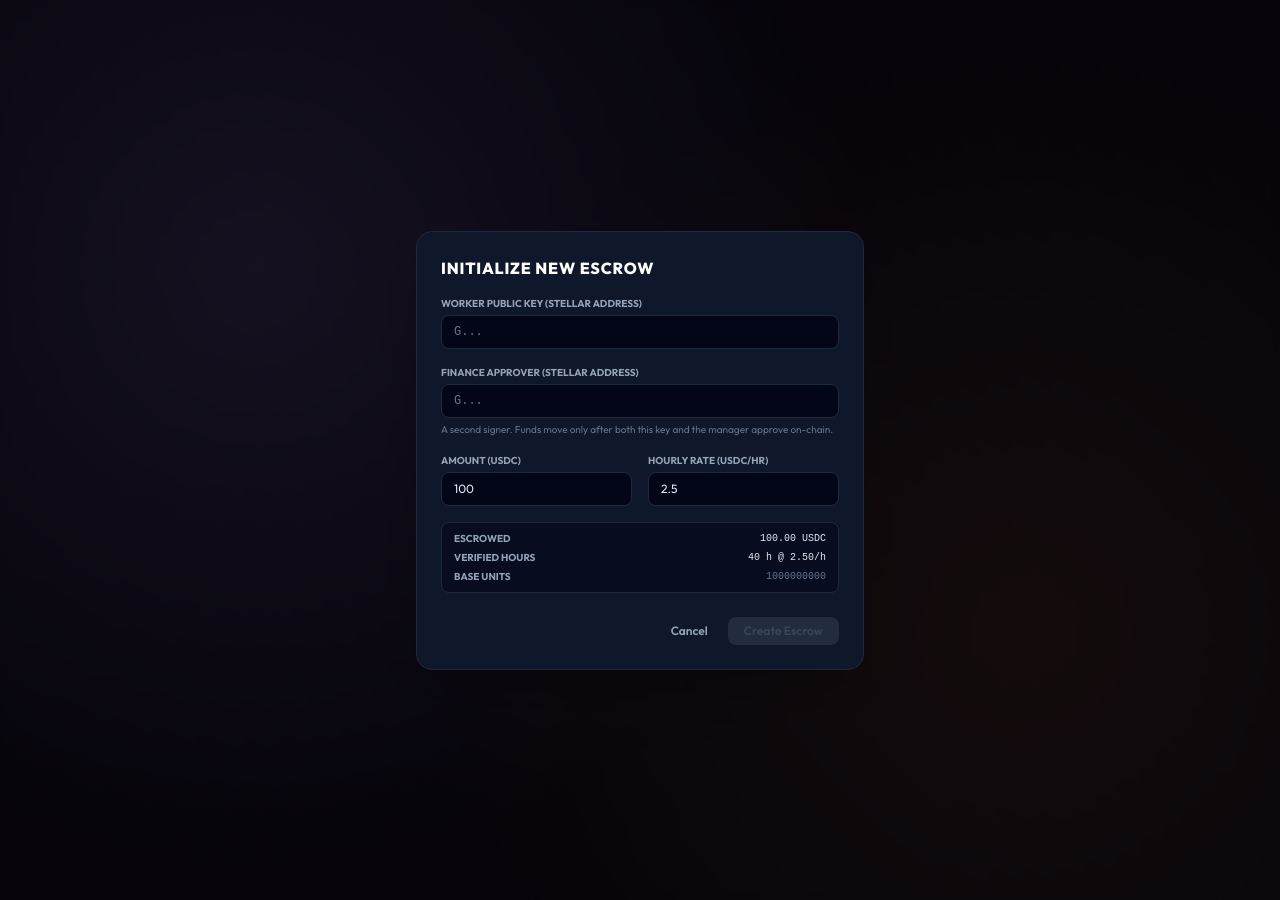
it: CreateEscrowModal Component › rejects more precision than the asset can represent
Replace the text in the field labelled "Amount (USDC)" with "1.00000001" at (536, 488), box [441,472,632,506]
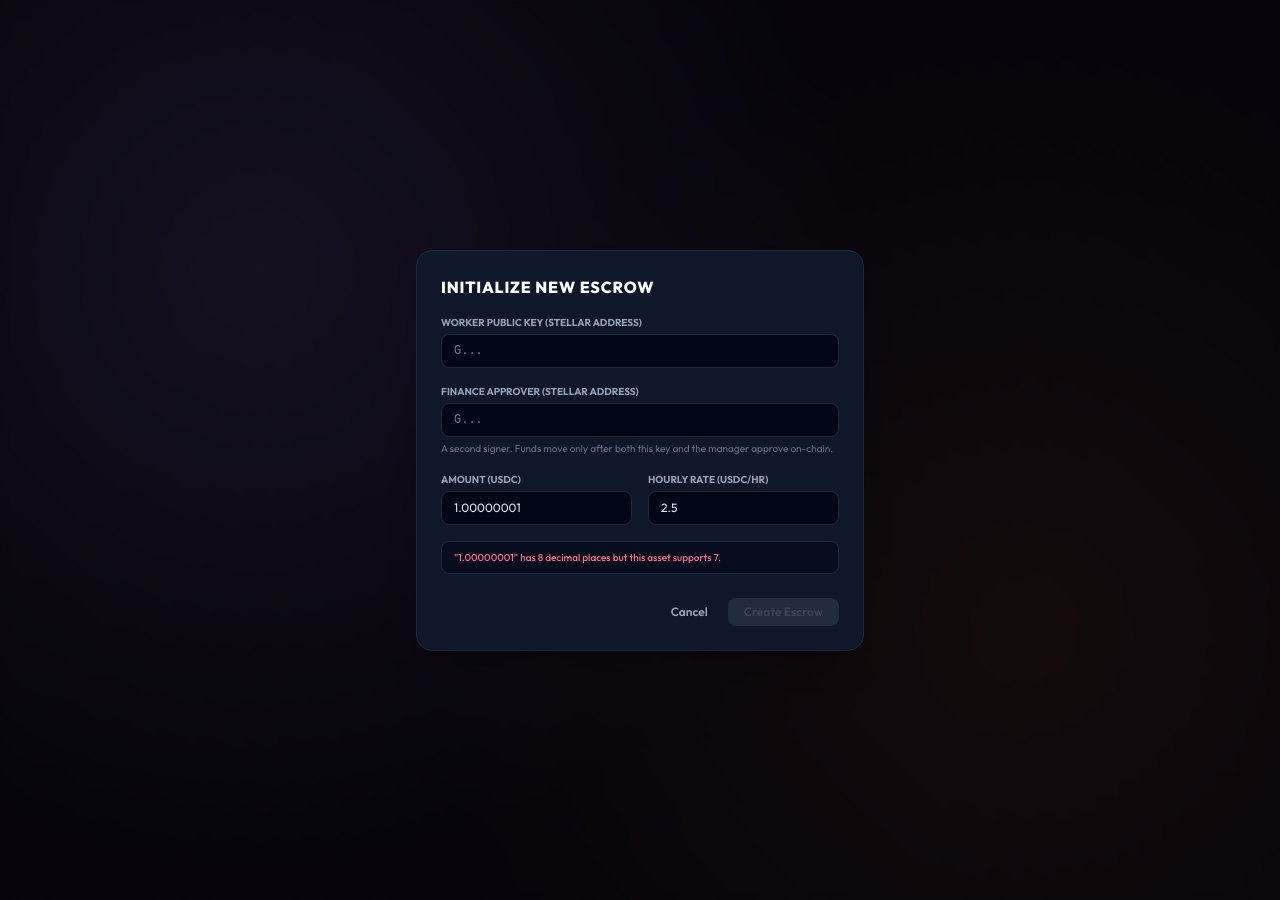
Expected: the text "\"1.00000001\" has 8 decimal places but this asset supports 7." is shown, [454,550,721,564]
